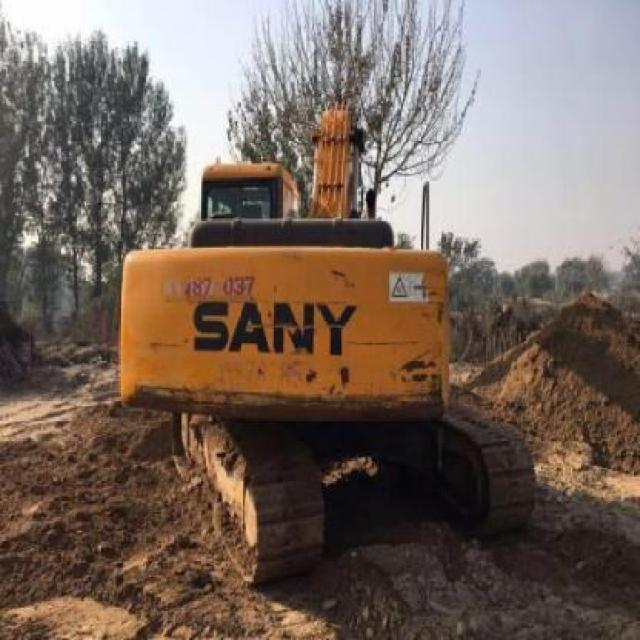Excavator: (111, 95, 538, 591)
